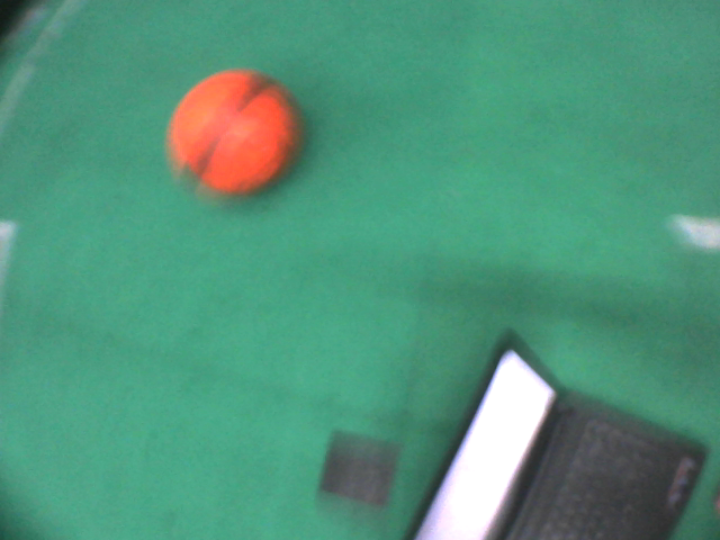bola: (161, 63, 317, 208)
